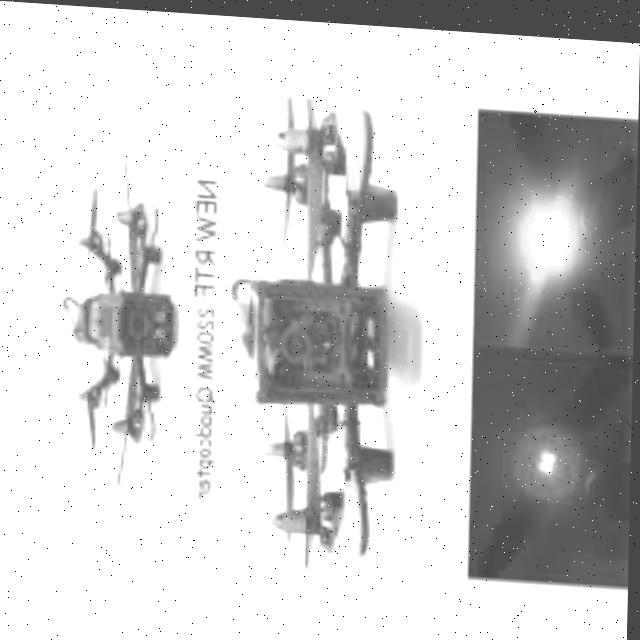drone: (231, 78, 433, 606), (50, 144, 203, 506)
